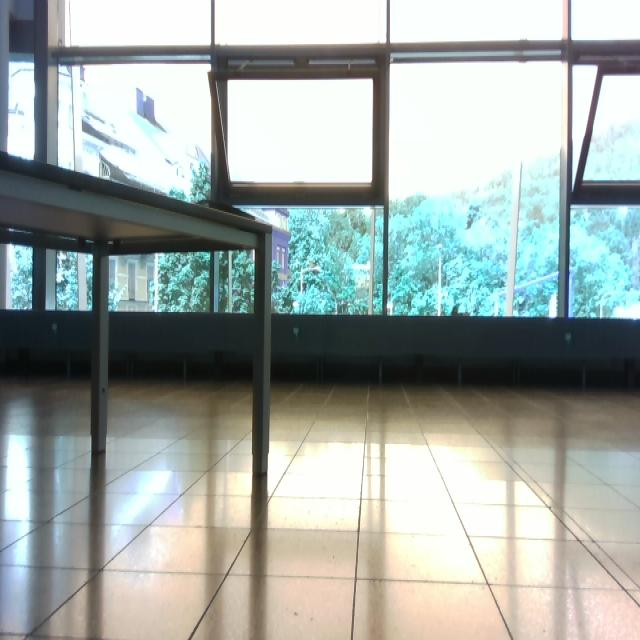door: (93, 245, 268, 476)
light bulb: (549, 293, 558, 318), (293, 301, 299, 309)
pillar: (90, 244, 111, 454)
tiled floor: (2, 377, 639, 638)
window: (1, 1, 640, 322)
